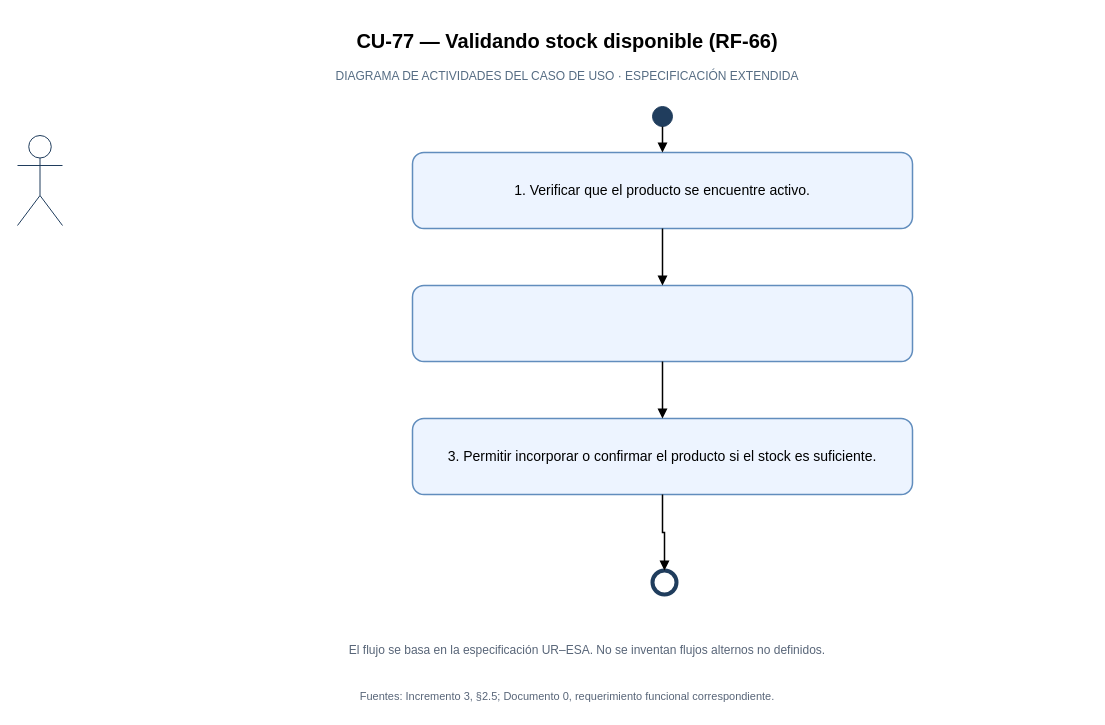
Some shapes in this 1105 by 725 pixel diagram are drawn without their labels. The centre of each missing label's shape, as x and y in pixels:
"2. Comparar la cantidad solicitada con el stock disponible." goes at pixel 662 323.
"Cajero" goes at pixel 39 180.
